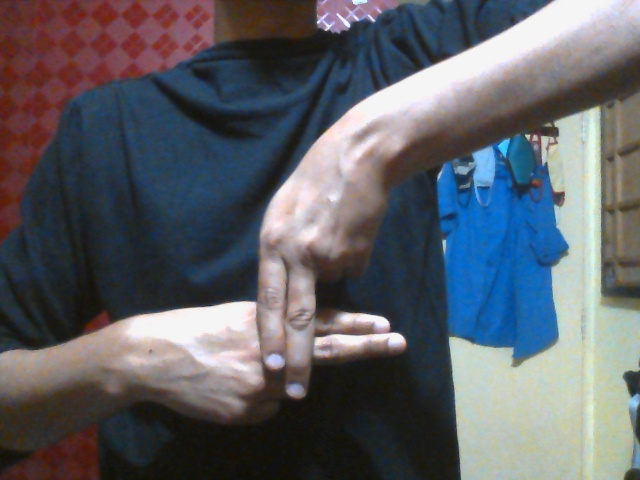F: (145, 156, 410, 427)
